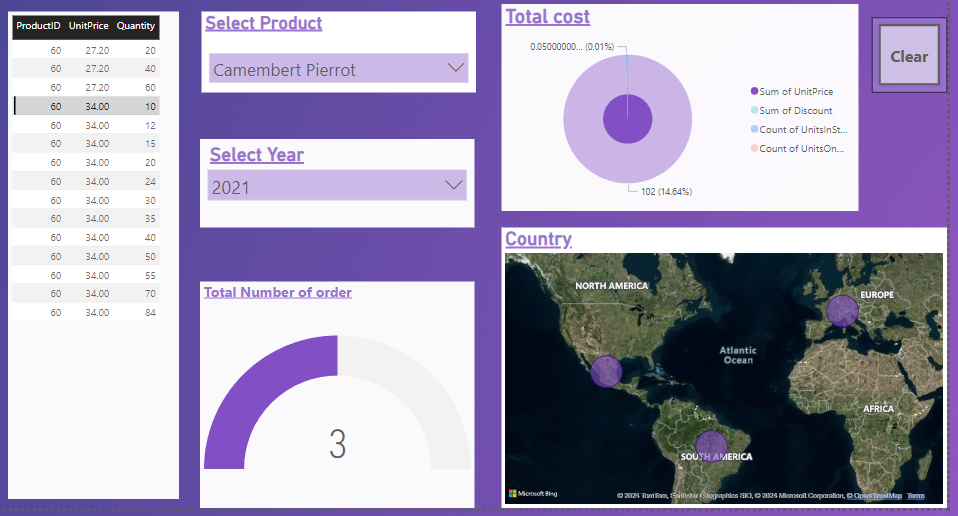

Layout of this report page (visuals, bound fields, positions):
{"tool":"powerbi","page":{"name":"Page 1","canvas":[1280,720],"ordinal":0},"visuals":[{"type":"slicer","title":"Select Product","fields":{"Values":["Products.ProductName"]},"box":[286,58,366,108],"z":0},{"type":"slicer","fields":{"Values":["Orders.OrderDate.Variation.Date Hierarchy.Year"]},"box":[284,228,366,118],"z":1000},{"type":"tableEx","fields":{"Values":["Products.ProductID","Order_Details.UnitPrice","Order_Details.Quantity"]},"box":[28,58,228,650],"z":2000},{"type":"map","title":"Country","fields":{"Category":["Orders.ShipCountry"],"Series":["Order_Details.ProductID"]},"box":[686,346,594,374],"z":3000},{"type":"gauge","title":"Total Number of order","fields":{"Y":["CountNonNull(Order_Details.OrderID)"]},"box":[284,418,366,302],"z":4000},{"type":"pieChart","title":"Total cost","fields":{"Y":["Sum(Order_Details.UnitPrice)","Sum(Order_Details.Discount)","CountNonNull(Products.UnitsInStock)","CountNonNull(Products.UnitsOnOrder)"]},"box":[686,48,476,276],"z":5000},{"type":"actionButton","box":[1180,66,100,100],"z":6000}]}

Visuals, with their boxes in screenshot pixels (x1, y1, x2, y2):
"Select Product" slicer: (197, 9, 476, 91)
slicer - Orders.OrderDate.Variation.Date Hierarchy.Year: (196, 138, 474, 228)
tableEx - Products.ProductID x Order_Details.UnitPrice: (1, 9, 175, 503)
"Country" map: (502, 228, 953, 512)
"Total Number of order" gauge: (196, 283, 474, 512)
"Total cost" pieChart: (502, 2, 863, 211)
actionButton: (877, 15, 953, 91)
